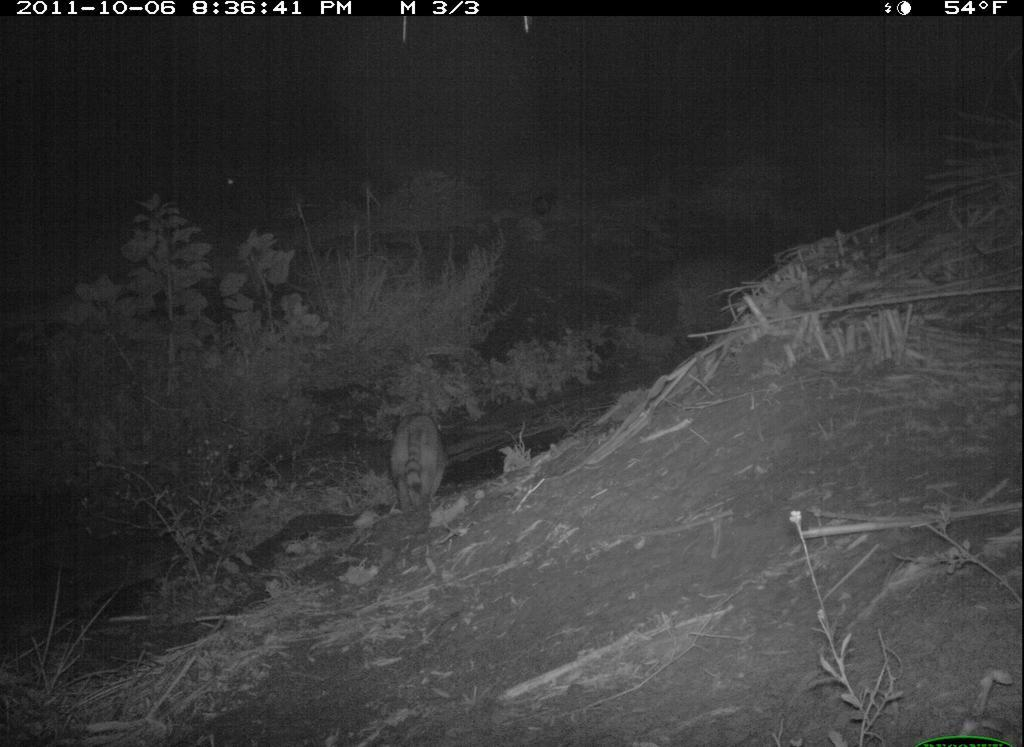raccoon: (372, 387, 487, 539)
